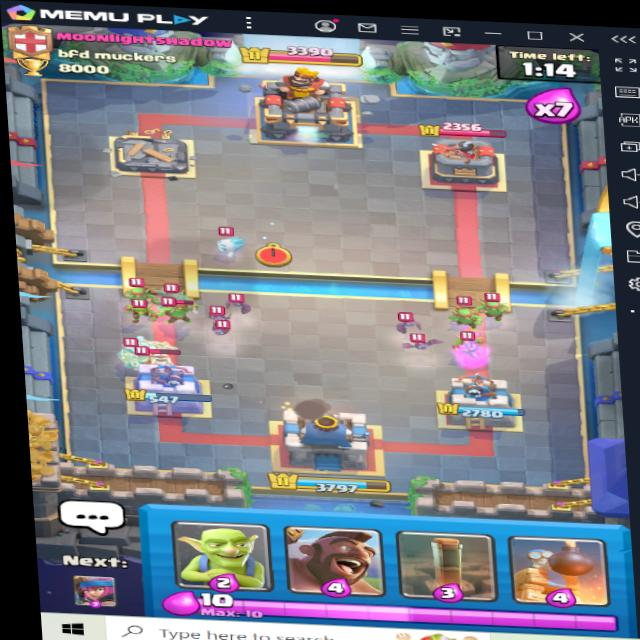Bat: (402, 332, 447, 357), (219, 294, 263, 317), (203, 315, 242, 338), (392, 310, 426, 332)
Goblin: (450, 329, 500, 355), (123, 297, 162, 324)
Icespirit: (206, 227, 250, 258)
Monk: (126, 344, 194, 384)
Speargoblin: (106, 272, 157, 301), (149, 297, 193, 329), (448, 297, 487, 332), (474, 289, 513, 323)
